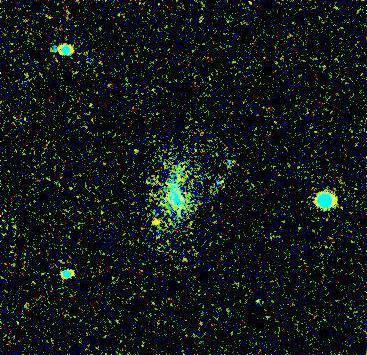star: (140, 208, 170, 238)
